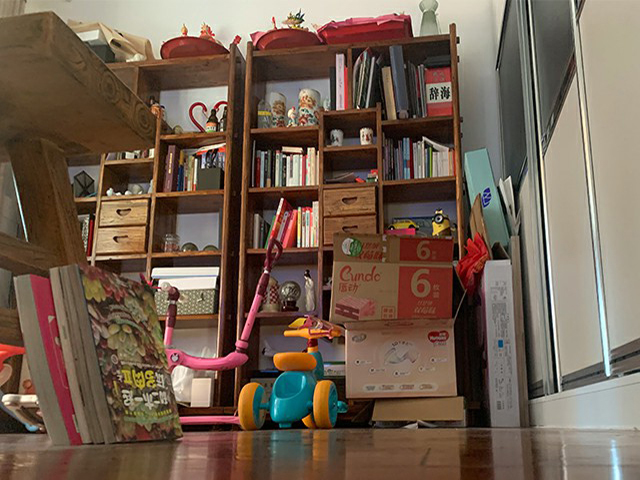book: (11, 264, 185, 447)
cabinet: (491, 1, 640, 432)
